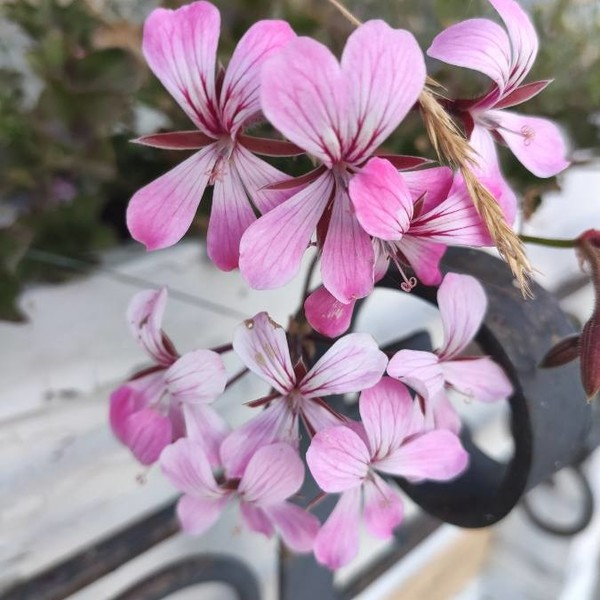obstacle: (153, 54, 536, 543)
